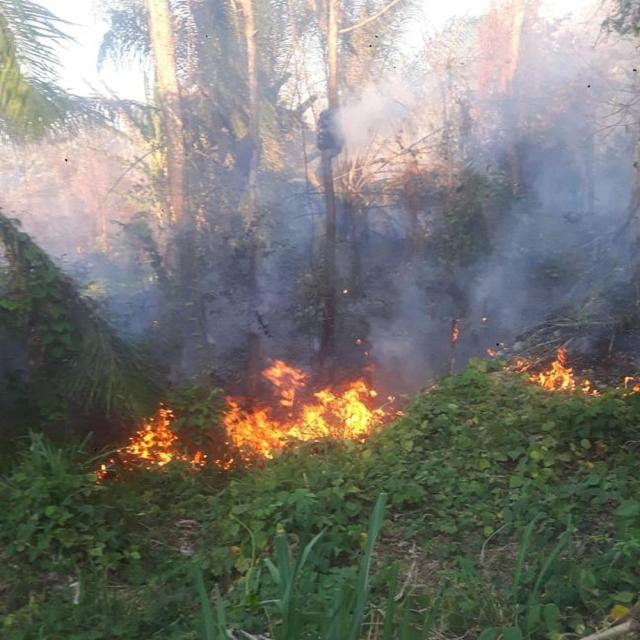fire: (114, 353, 386, 467)
